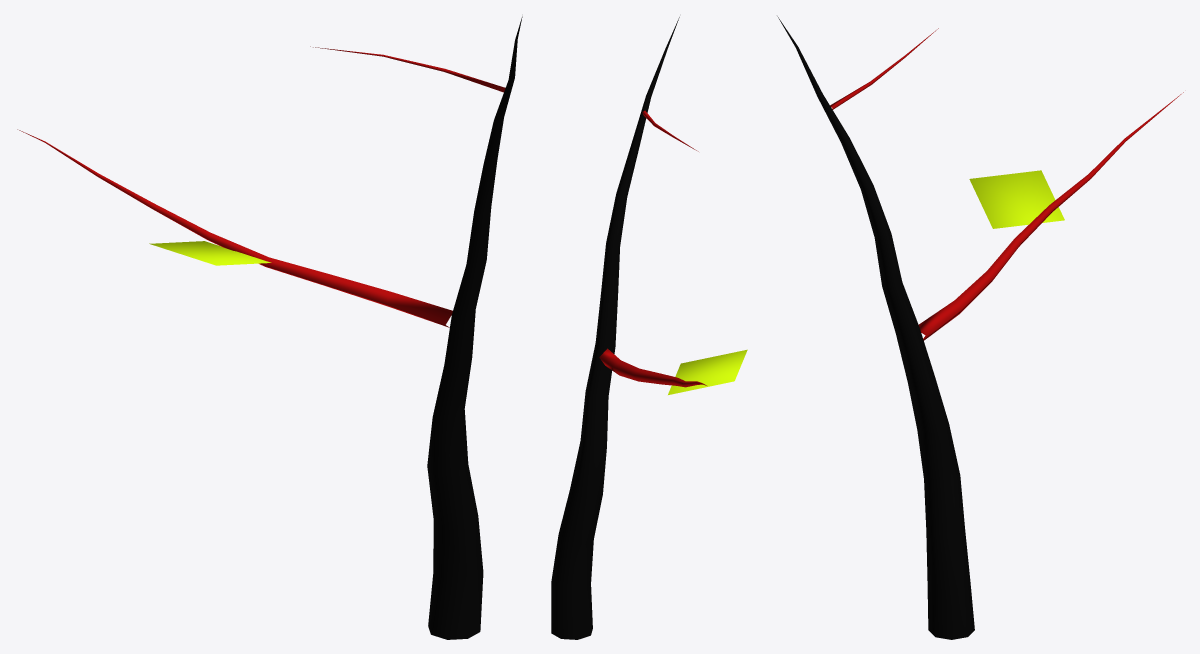
File: Tree.gltf
The picture shows the model from 3 angles, left to right: view 1: azimuth 30°, elevation 25°; view 2: azimuth 150°, elevation 25°; view 3: azimuth 270°, elevation 25°; orthographic projection. The views are drawn at different scales.
Parts seen in each view (by area): view 1: node_Tree_-1054; view 2: node_Tree_-1054; view 3: node_Tree_-1054.
Boxes of the visible parts, x1,y1,x2,y2 form: node_Tree_-1054: [17, 16, 522, 639]; node_Tree_-1054: [551, 17, 747, 639]; node_Tree_-1054: [777, 16, 1183, 639].
Size of the model in its own units: 5.96 by 12.11 by 7.47.
